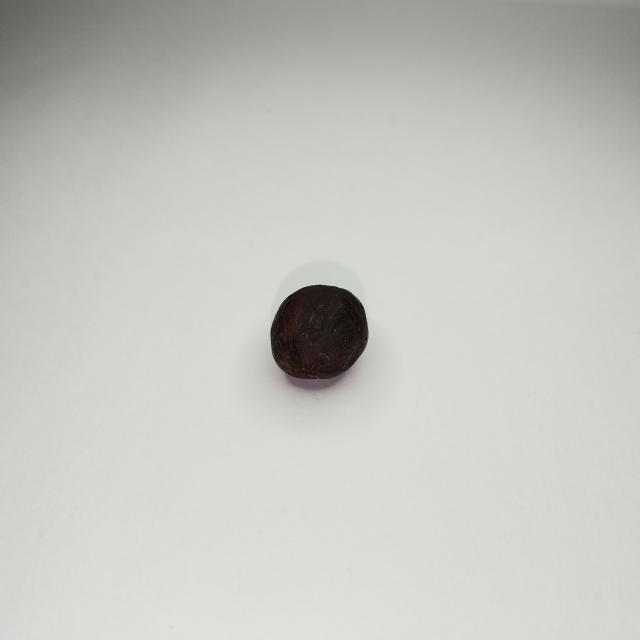Danado: (269, 281, 371, 384)
